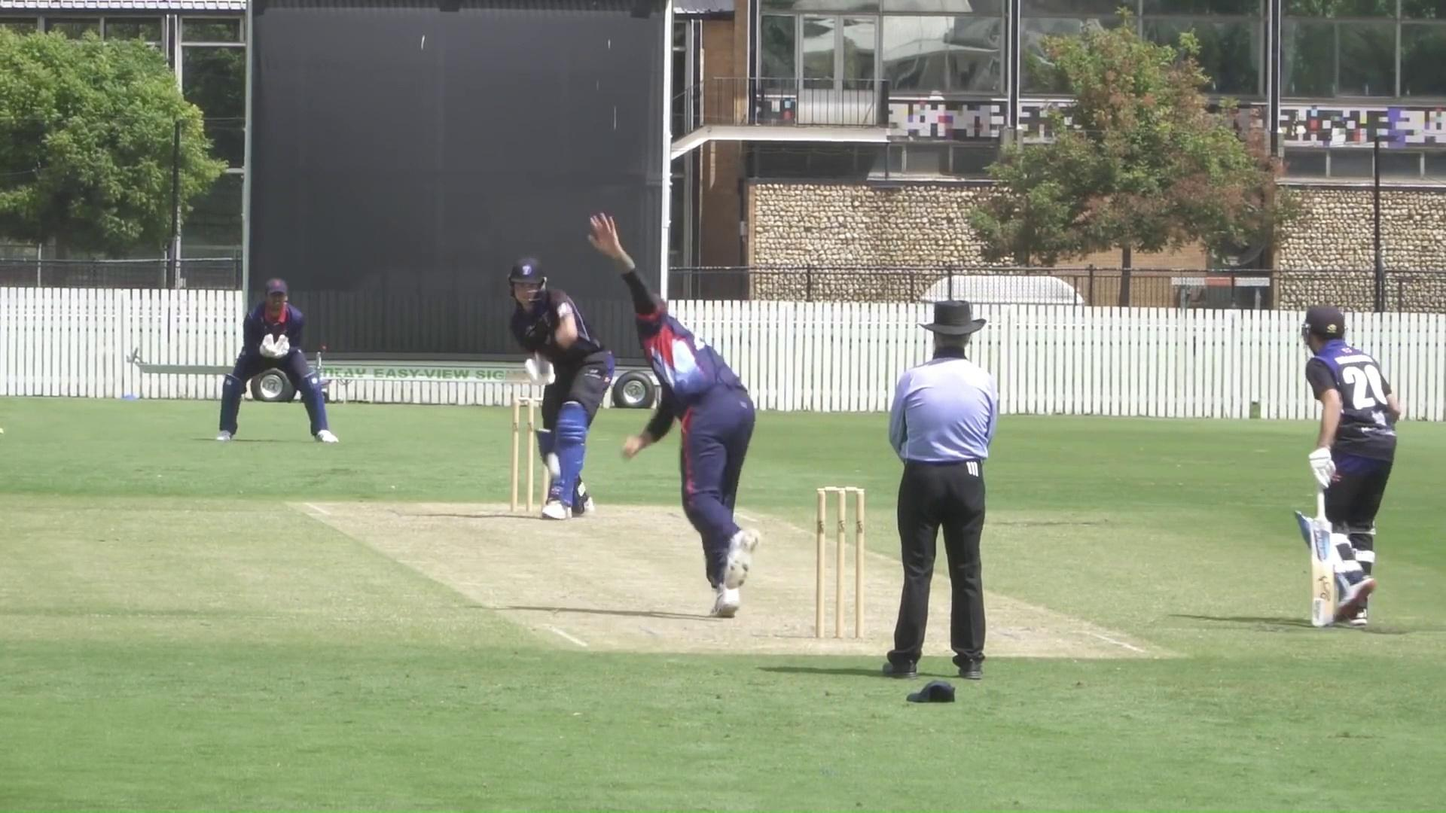ball: (543, 451, 564, 480)
